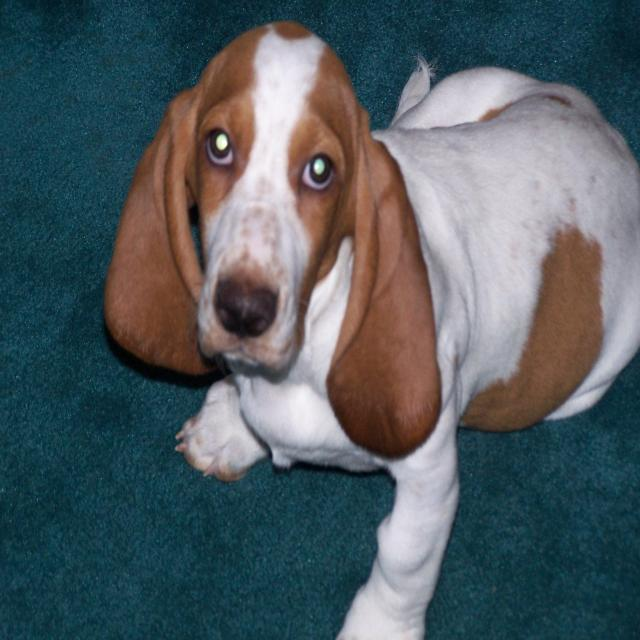basset: (99, 16, 636, 636)
